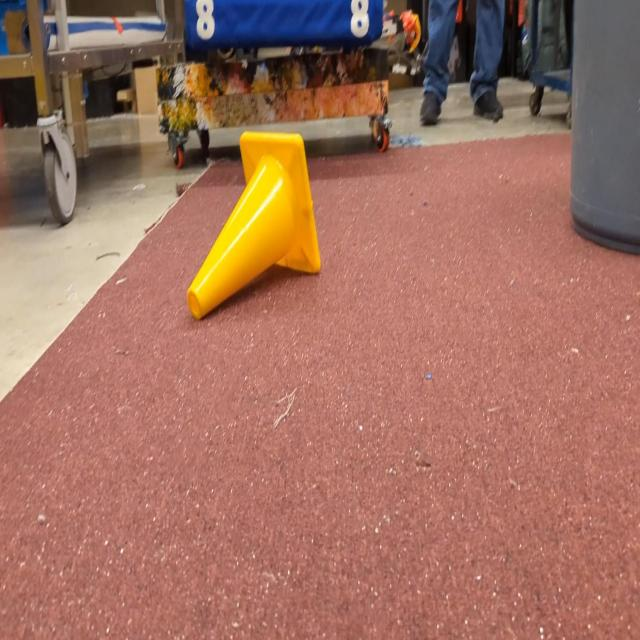frc_cone: (187, 132, 320, 324)
